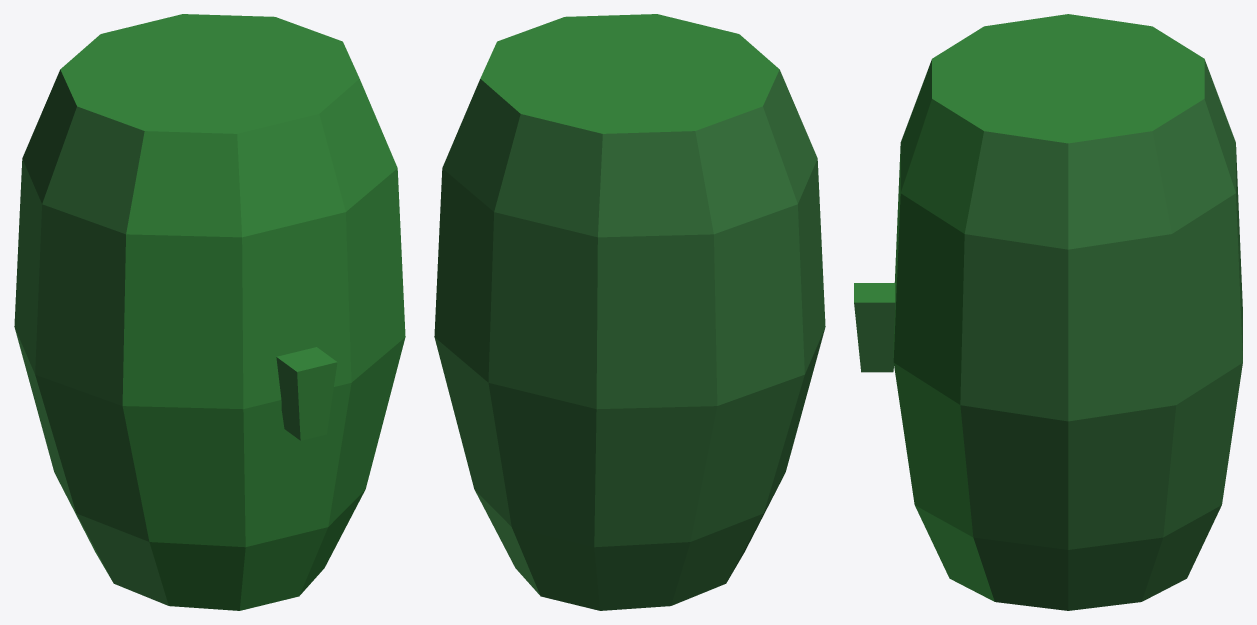
Rendered from wk_head_square_v01.glb.
3 views of the same model, side by side, from view 1: azimuth 30°, elevation 25°; view 2: azimuth 150°, elevation 25°; view 3: azimuth 270°, elevation 25° (orthographic).
Parts seen in each view (by area): view 1: GEO_Head_square_Shell, GEO_Head_square_Nose; view 2: GEO_Head_square_Shell; view 3: GEO_Head_square_Shell, GEO_Head_square_Nose.
Boxes of the visible parts, box(x1,y1,x2,y2) form: GEO_Head_square_Shell: box(14, 14, 405, 610); GEO_Head_square_Nose: box(276, 347, 337, 440); GEO_Head_square_Shell: box(434, 14, 825, 610); GEO_Head_square_Shell: box(893, 14, 1242, 610); GEO_Head_square_Nose: box(854, 283, 895, 372).
Size of the model in its own units: 0.225 by 0.2989 by 0.2171.
